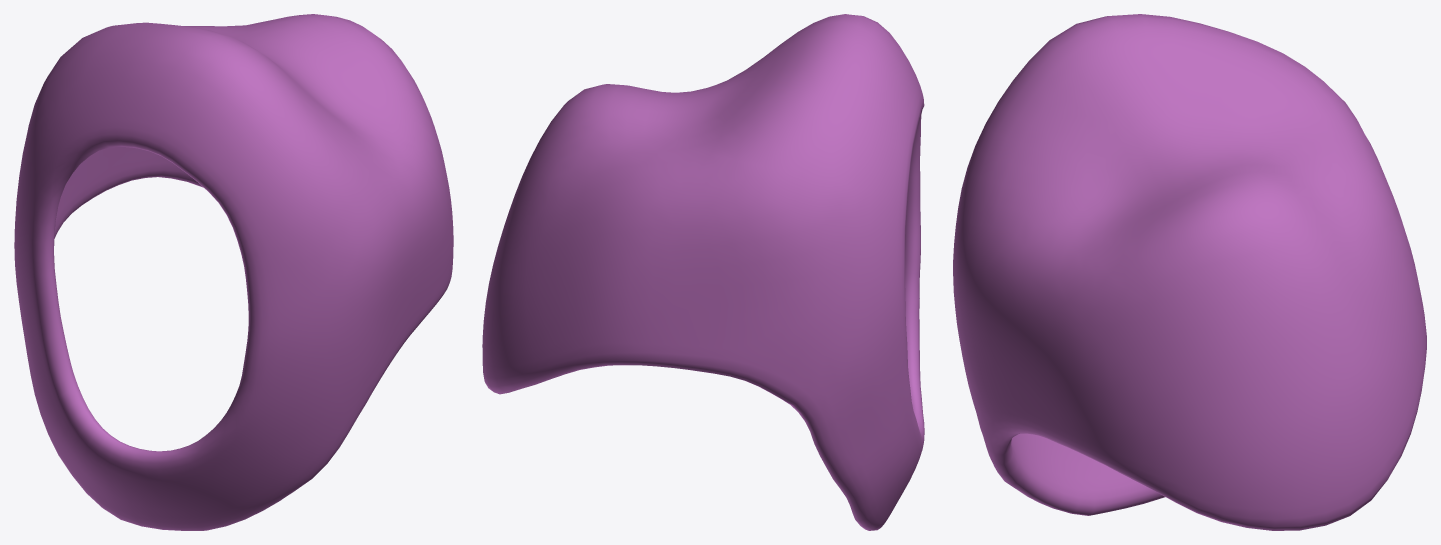
File: BL4_Frame_Classic.001 3.glb
3 views of the same model, side by side, from view 1: azimuth 30°, elevation 25°; view 2: azimuth 150°, elevation 25°; view 3: azimuth 270°, elevation 25° (orthographic). The views are drawn at different scales.
Parts seen in each view (by area): view 1: BL4_Frame_Classic.001; view 2: BL4_Frame_Classic.001; view 3: BL4_Frame_Classic.001.
Boxes of the visible parts, x1=… form: BL4_Frame_Classic.001: x1=14, y1=14, x2=453, y2=530; BL4_Frame_Classic.001: x1=482, y1=14, x2=924, y2=530; BL4_Frame_Classic.001: x1=953, y1=14, x2=1426, y2=530.
Size of the model in its own units: 0.832 by 0.961 by 0.8139.
